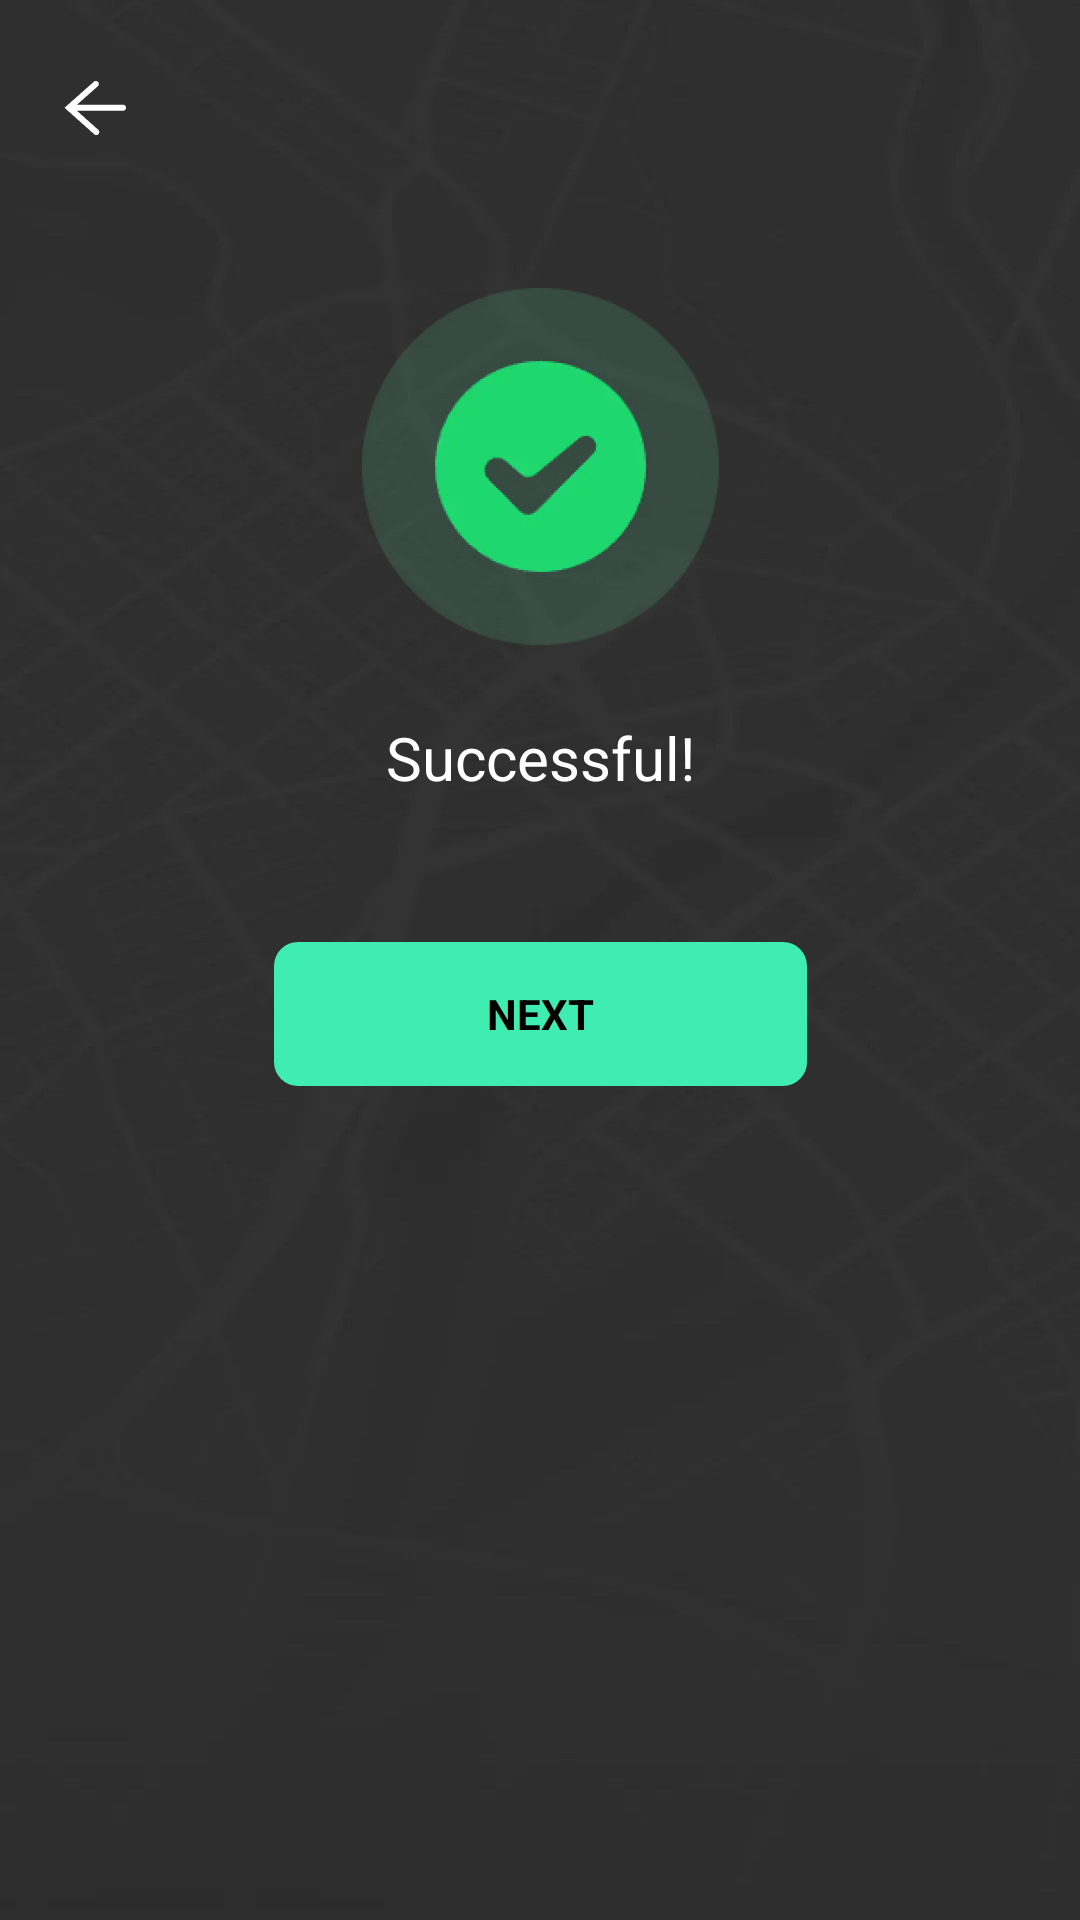

Icon bounding boxes for this 1080×1920 phone screenshot, format (x1, y1, x2, y2):
back: (64, 81, 126, 135)
